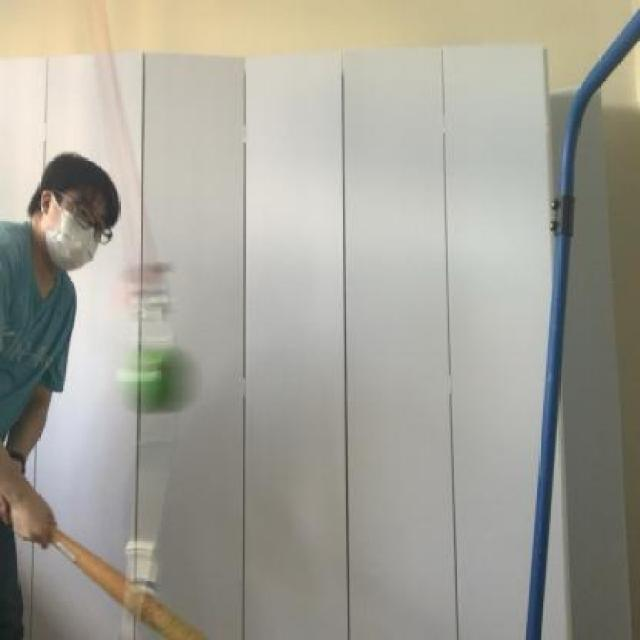baseball: (115, 337, 197, 412)
